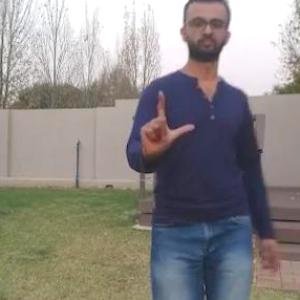land_hand: (136, 84, 198, 160)
